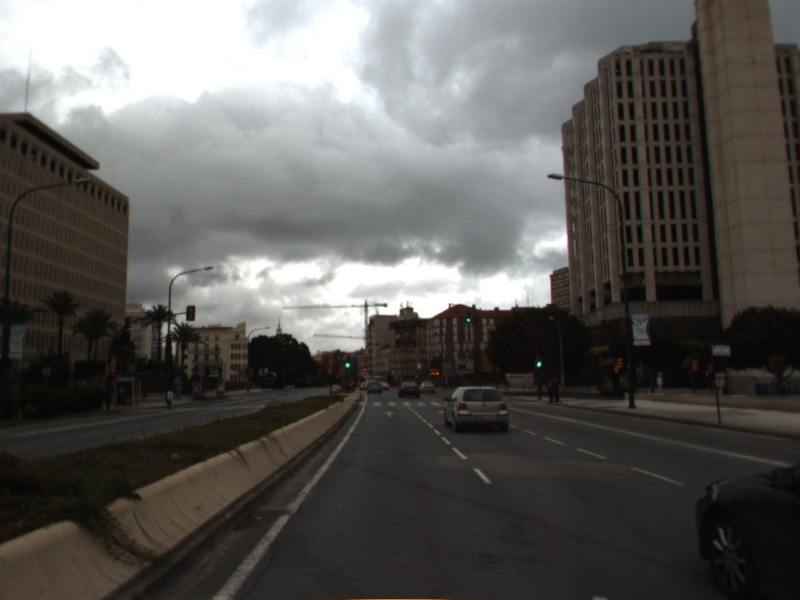STRAIGHT: (380, 408, 399, 420)
